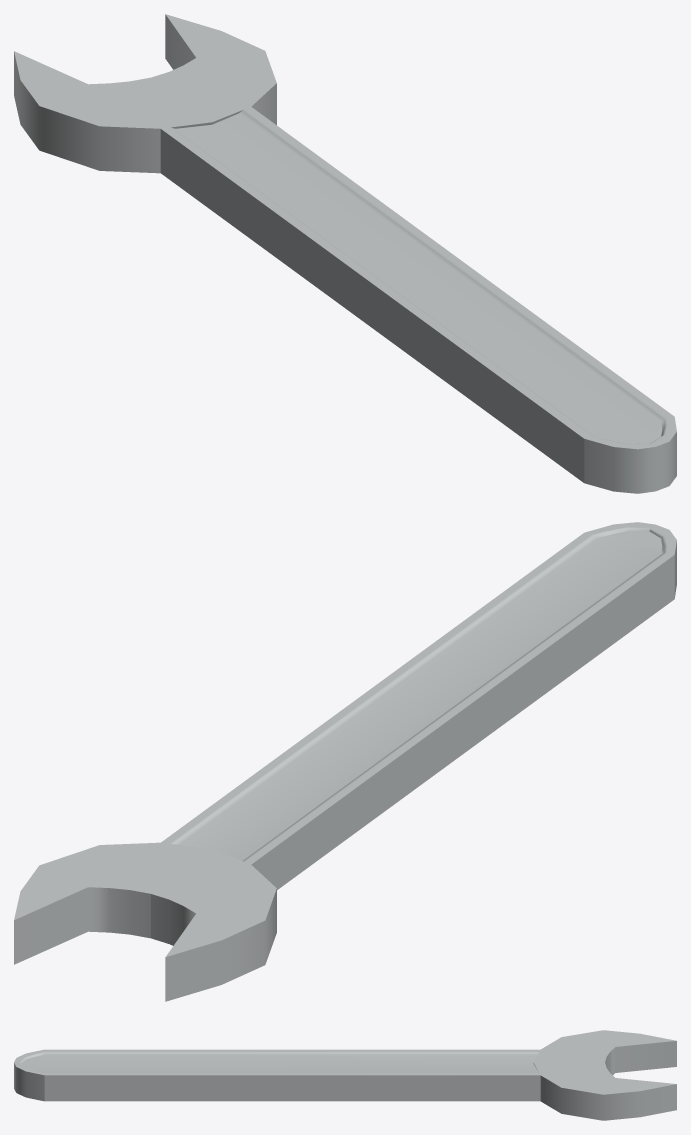
The model's file is Wrench.fbx.
3 renders of one model, top to bottom at view 1: azimuth 30°, elevation 25°; view 2: azimuth 150°, elevation 25°; view 3: azimuth 270°, elevation 25°, orthographic. The views are drawn at different scales.
Visible parts, largest first — view 1: Wrench; view 2: Wrench; view 3: Wrench.
Part boxes in pixels (x1,y1,x2,y2): Wrench: (14, 14, 676, 493); Wrench: (14, 522, 676, 1001); Wrench: (14, 1030, 676, 1120).
Bounding box in the file's own units: 0.842 × 0.1586 × 3.65.
Materials: 1 (1 with a texture image).
